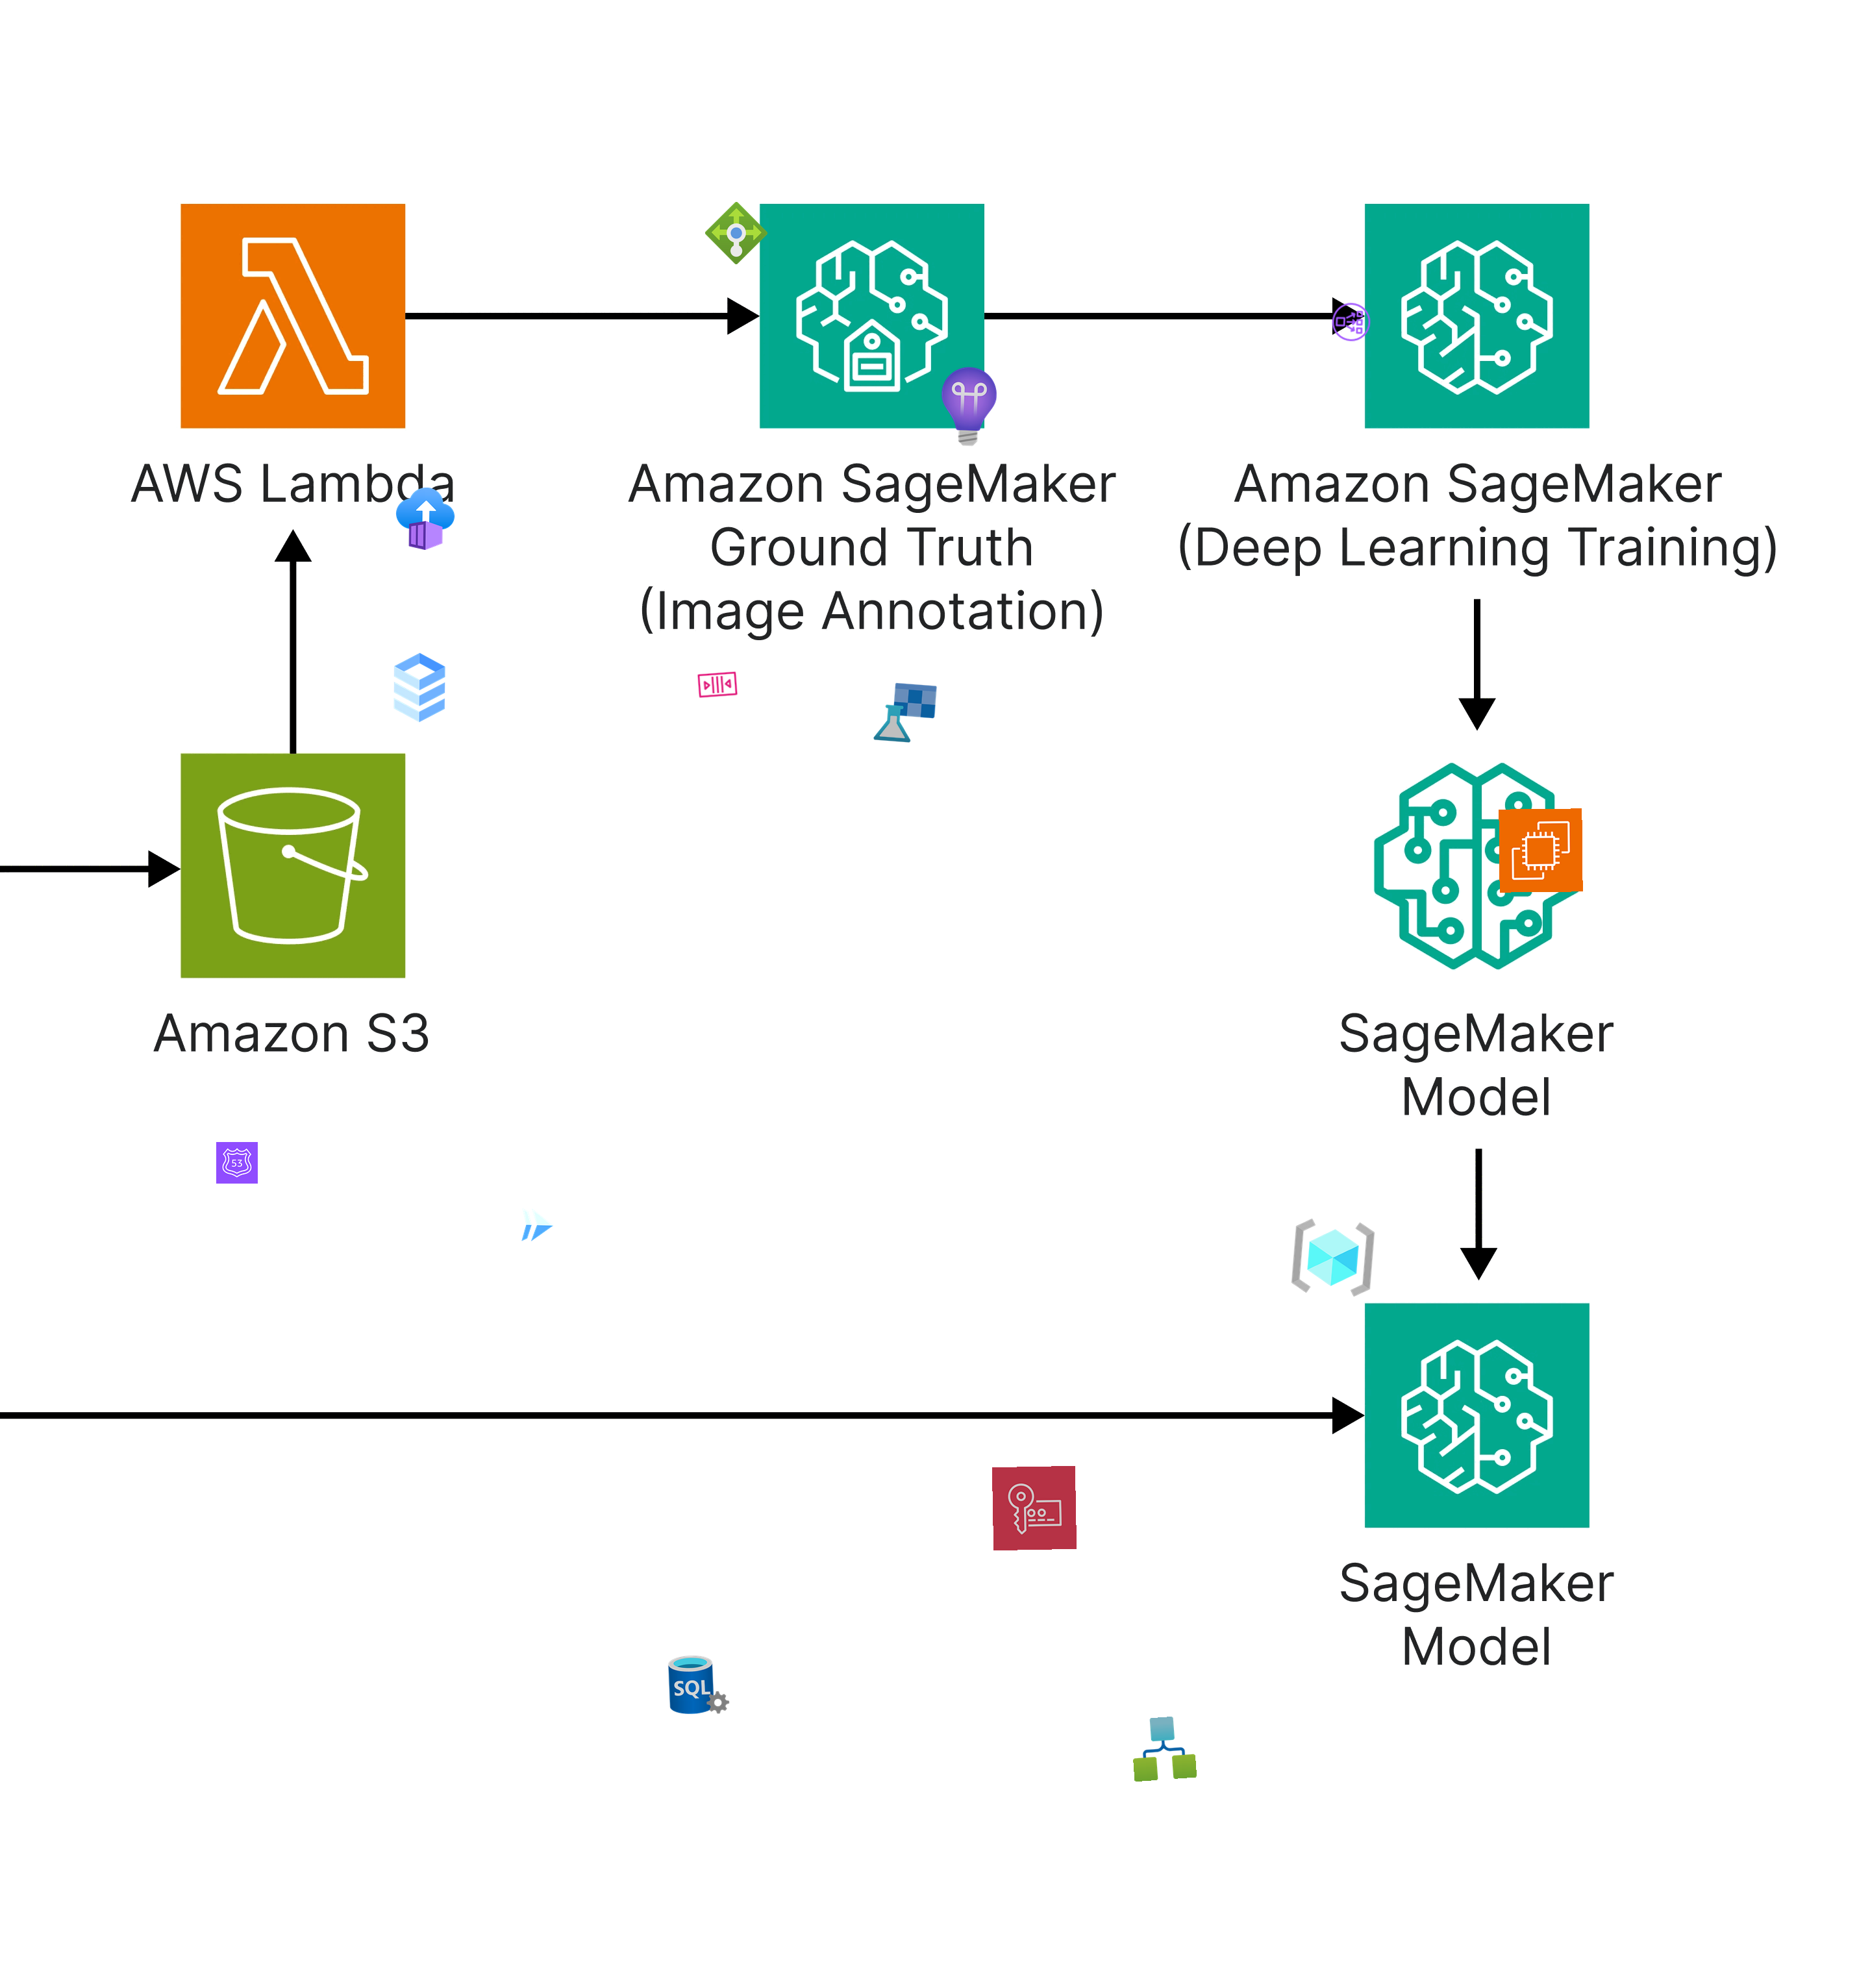aws_amazon_ec2: (1499, 809, 1584, 893)
aws_amazon_route_53: (216, 1141, 258, 1185)
aws_elastic_load_balancing_network_load_balancer: (1330, 301, 1373, 343)
aws_key_management_service: (991, 1466, 1077, 1550)
aws_simple_queue_service_queue: (694, 661, 740, 707)
azure_application_insights: (924, 362, 1012, 450)
azure_container_instances: (394, 487, 457, 550)
azure_load_balancers: (705, 202, 768, 265)
azure_logic_apps: (1130, 1714, 1197, 1782)
azure_machine_learning_studio_workspaces: (872, 678, 939, 747)
azure_resource_groups: (1288, 1213, 1378, 1302)
azure_sql_server: (666, 1652, 731, 1717)
gcp_cloud_run: (515, 1204, 559, 1246)
gcp_cloud_sql: (378, 645, 462, 729)
